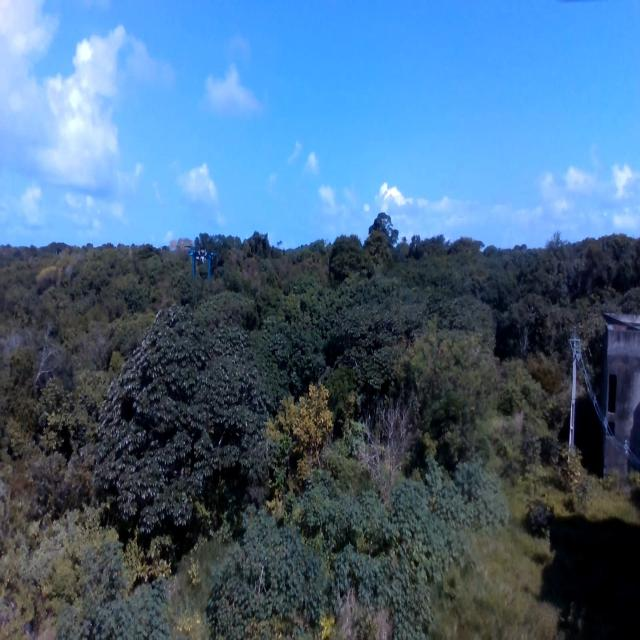-uav-: (182, 230, 222, 287)
